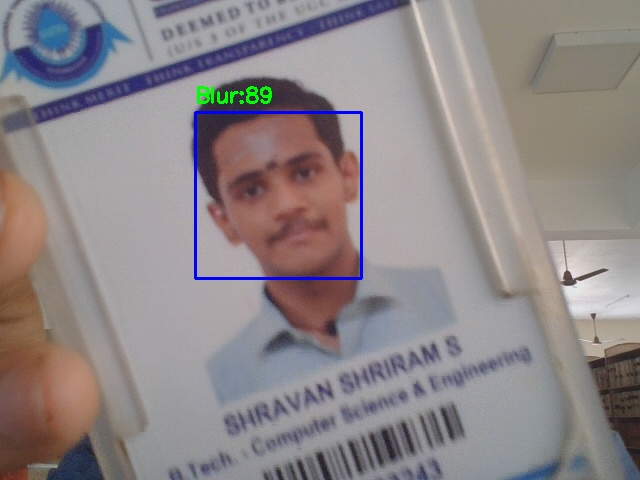fake: (195, 112, 361, 278)
